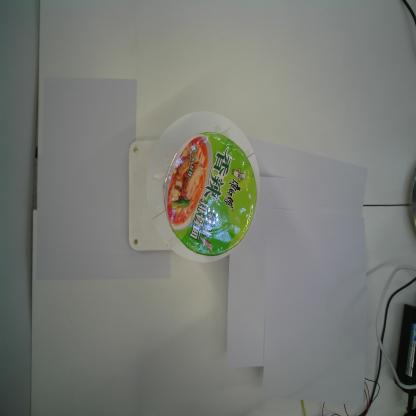Instant Noodles: (163, 130, 257, 257)
